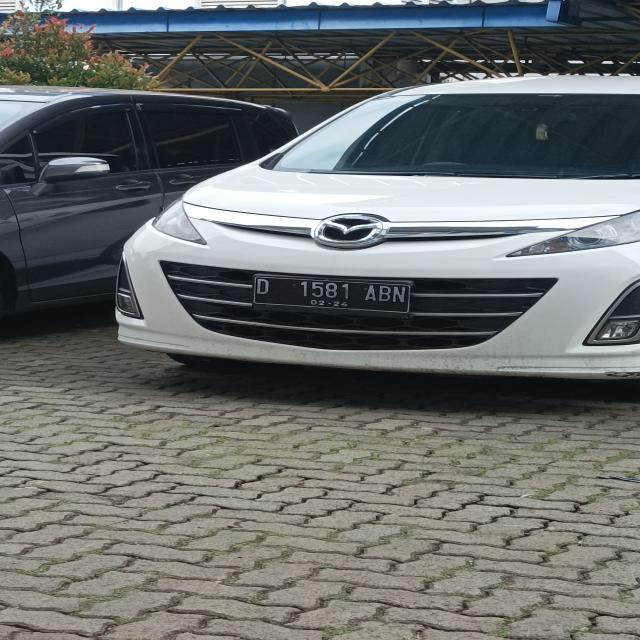license-plat: (195, 266, 441, 343)
